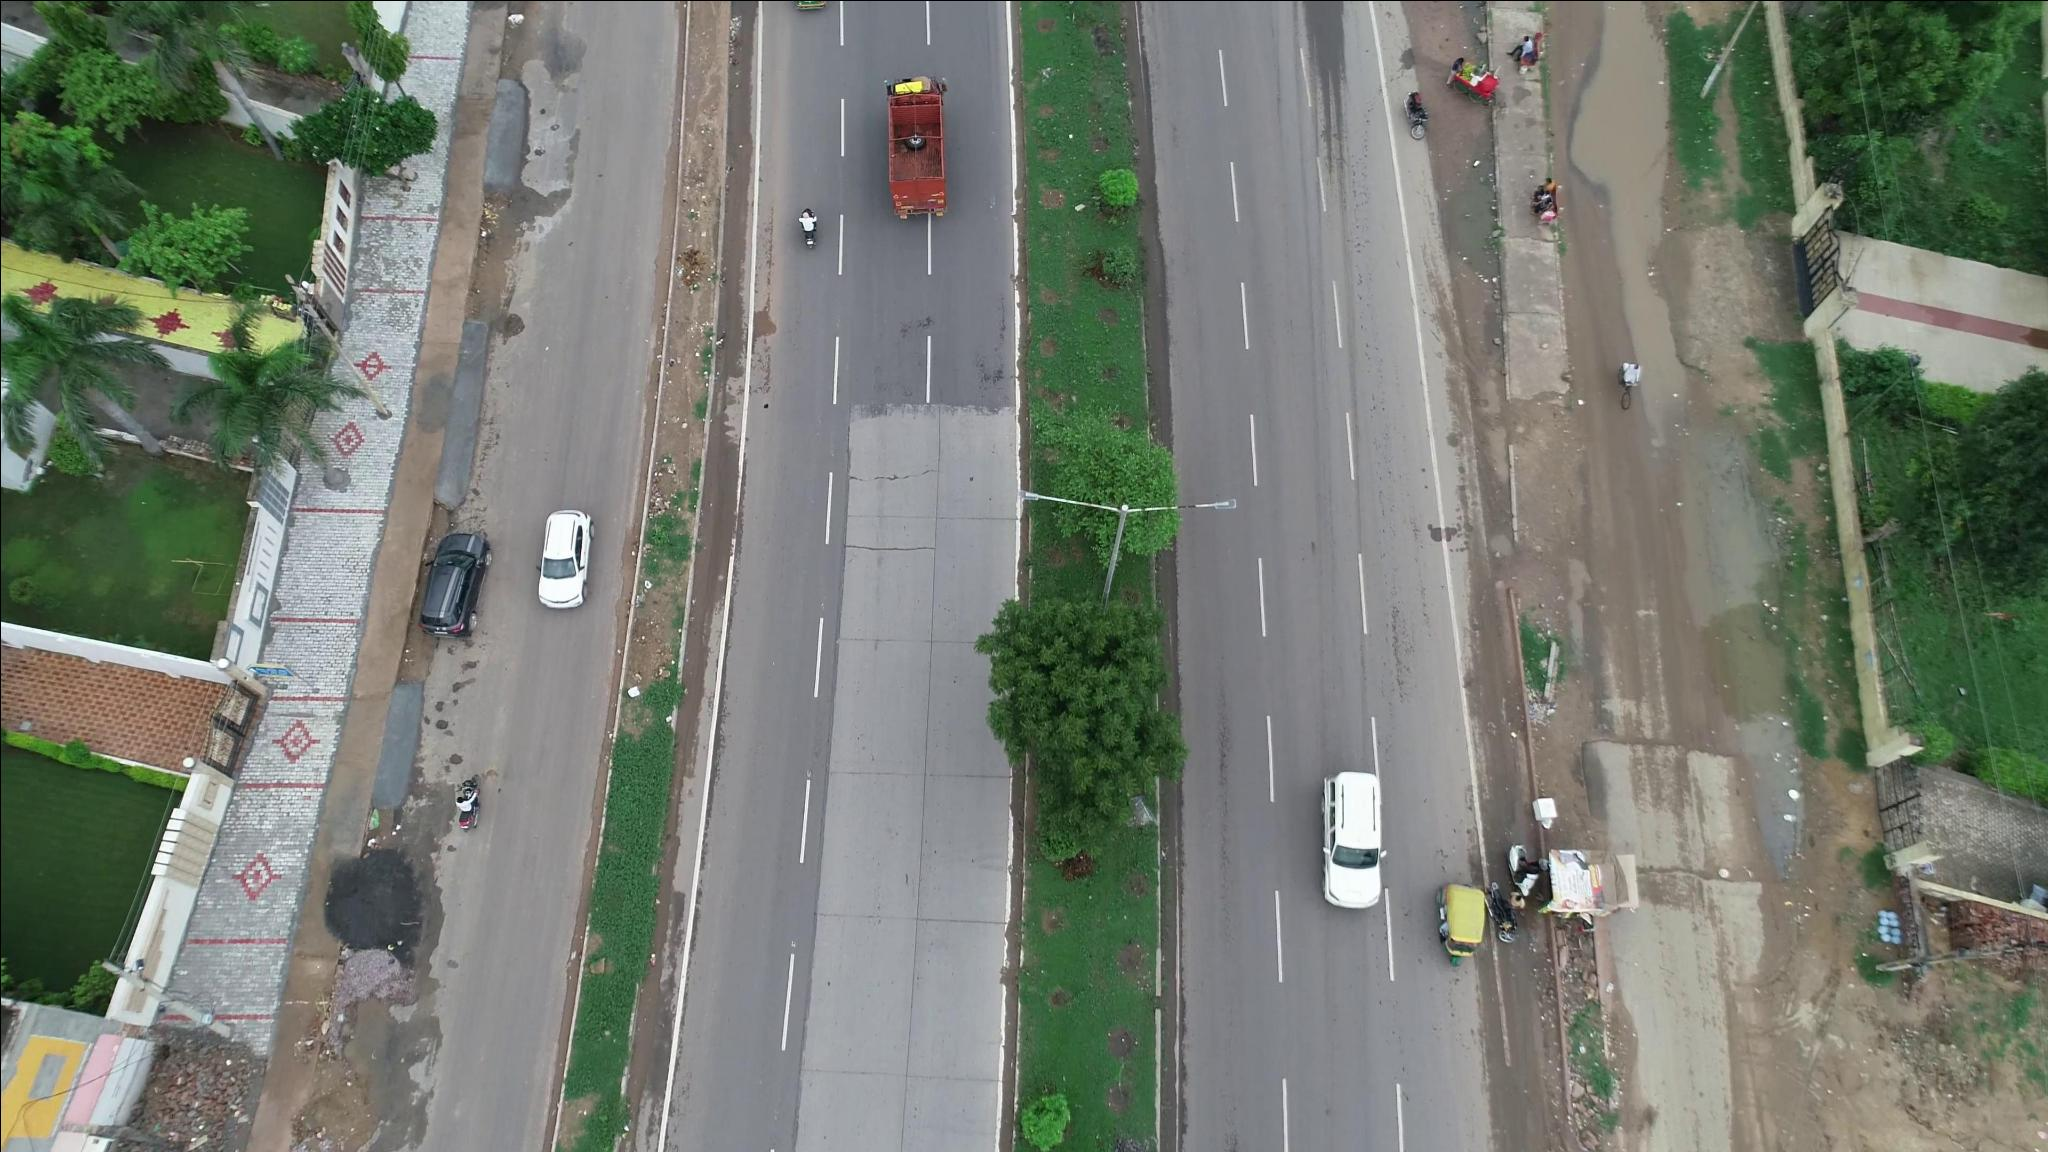Waterlogging: (1570, 13, 1695, 361), (1681, 444, 1795, 792)
